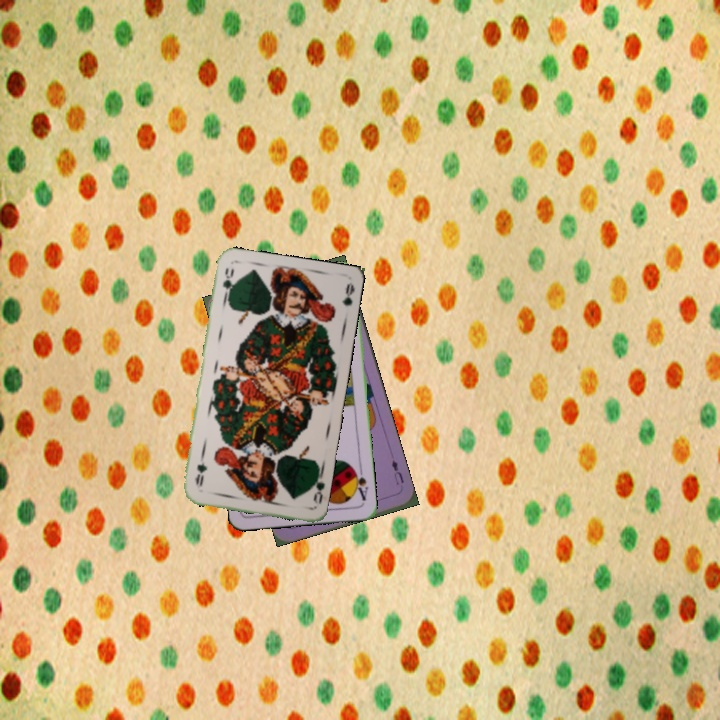EU: (387, 455, 406, 488)
GO: (306, 466, 327, 506), (219, 264, 237, 303)
SA: (349, 464, 370, 503)
